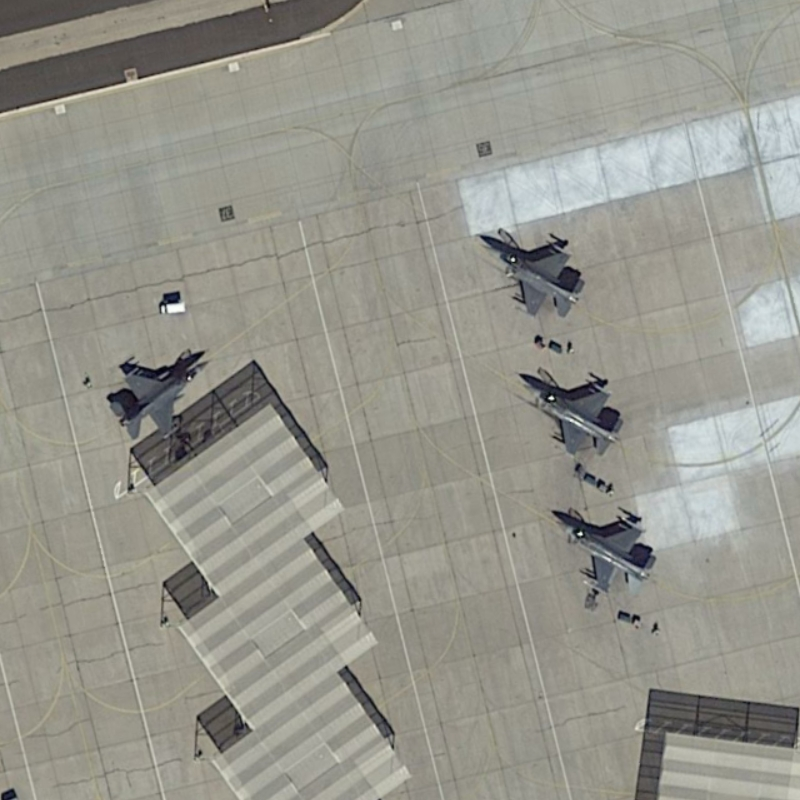A5: (545, 492, 665, 597), (512, 359, 627, 461), (469, 233, 595, 325), (100, 347, 216, 444)
